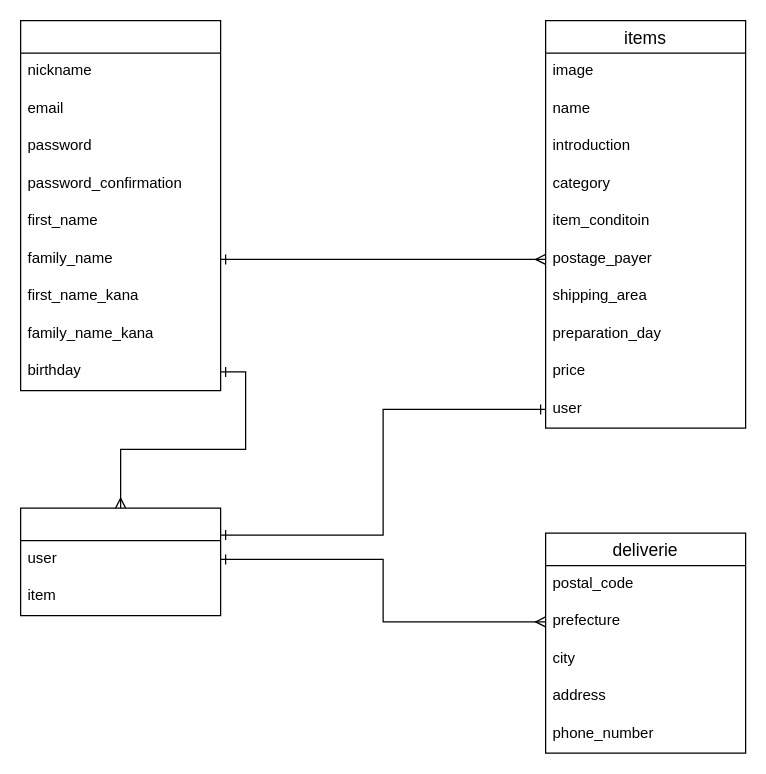
This 766x774 diagram has some shape labels left out. Here are the shapes that lost their labels. From the top down, the box of each, then its label:
(19, 19, 221, 391): users
(19, 507, 221, 616): purchase
